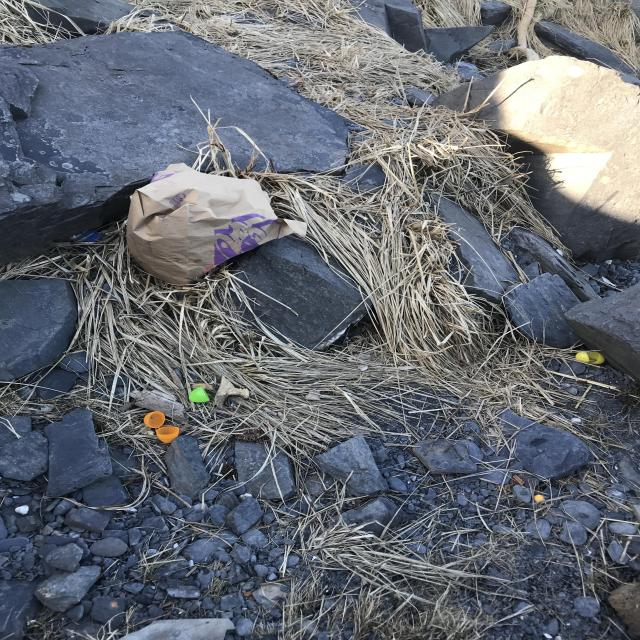Other plastic bottle: (156, 426, 179, 443), (144, 411, 165, 428), (189, 386, 210, 402), (589, 352, 605, 364), (576, 352, 589, 363), (534, 494, 543, 502)
Paper bag: (127, 163, 308, 287)
Unlabeled litter: (70, 230, 102, 242)
